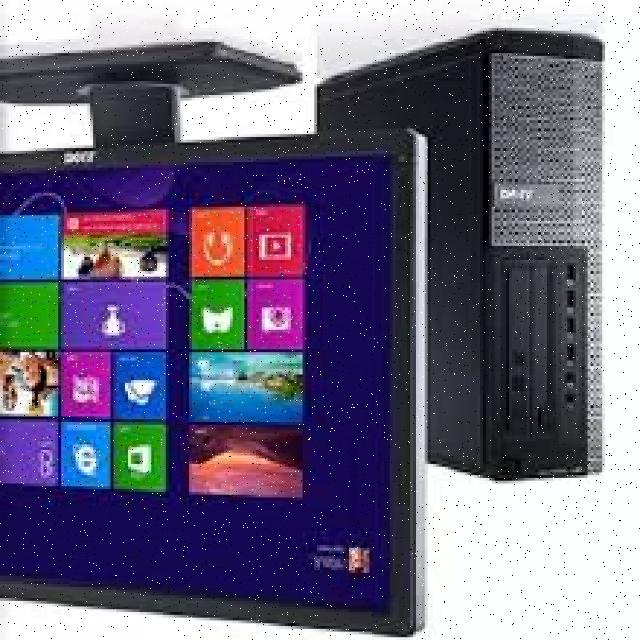Computer: (419, 16, 621, 490)
Monitor: (0, 126, 436, 638)
